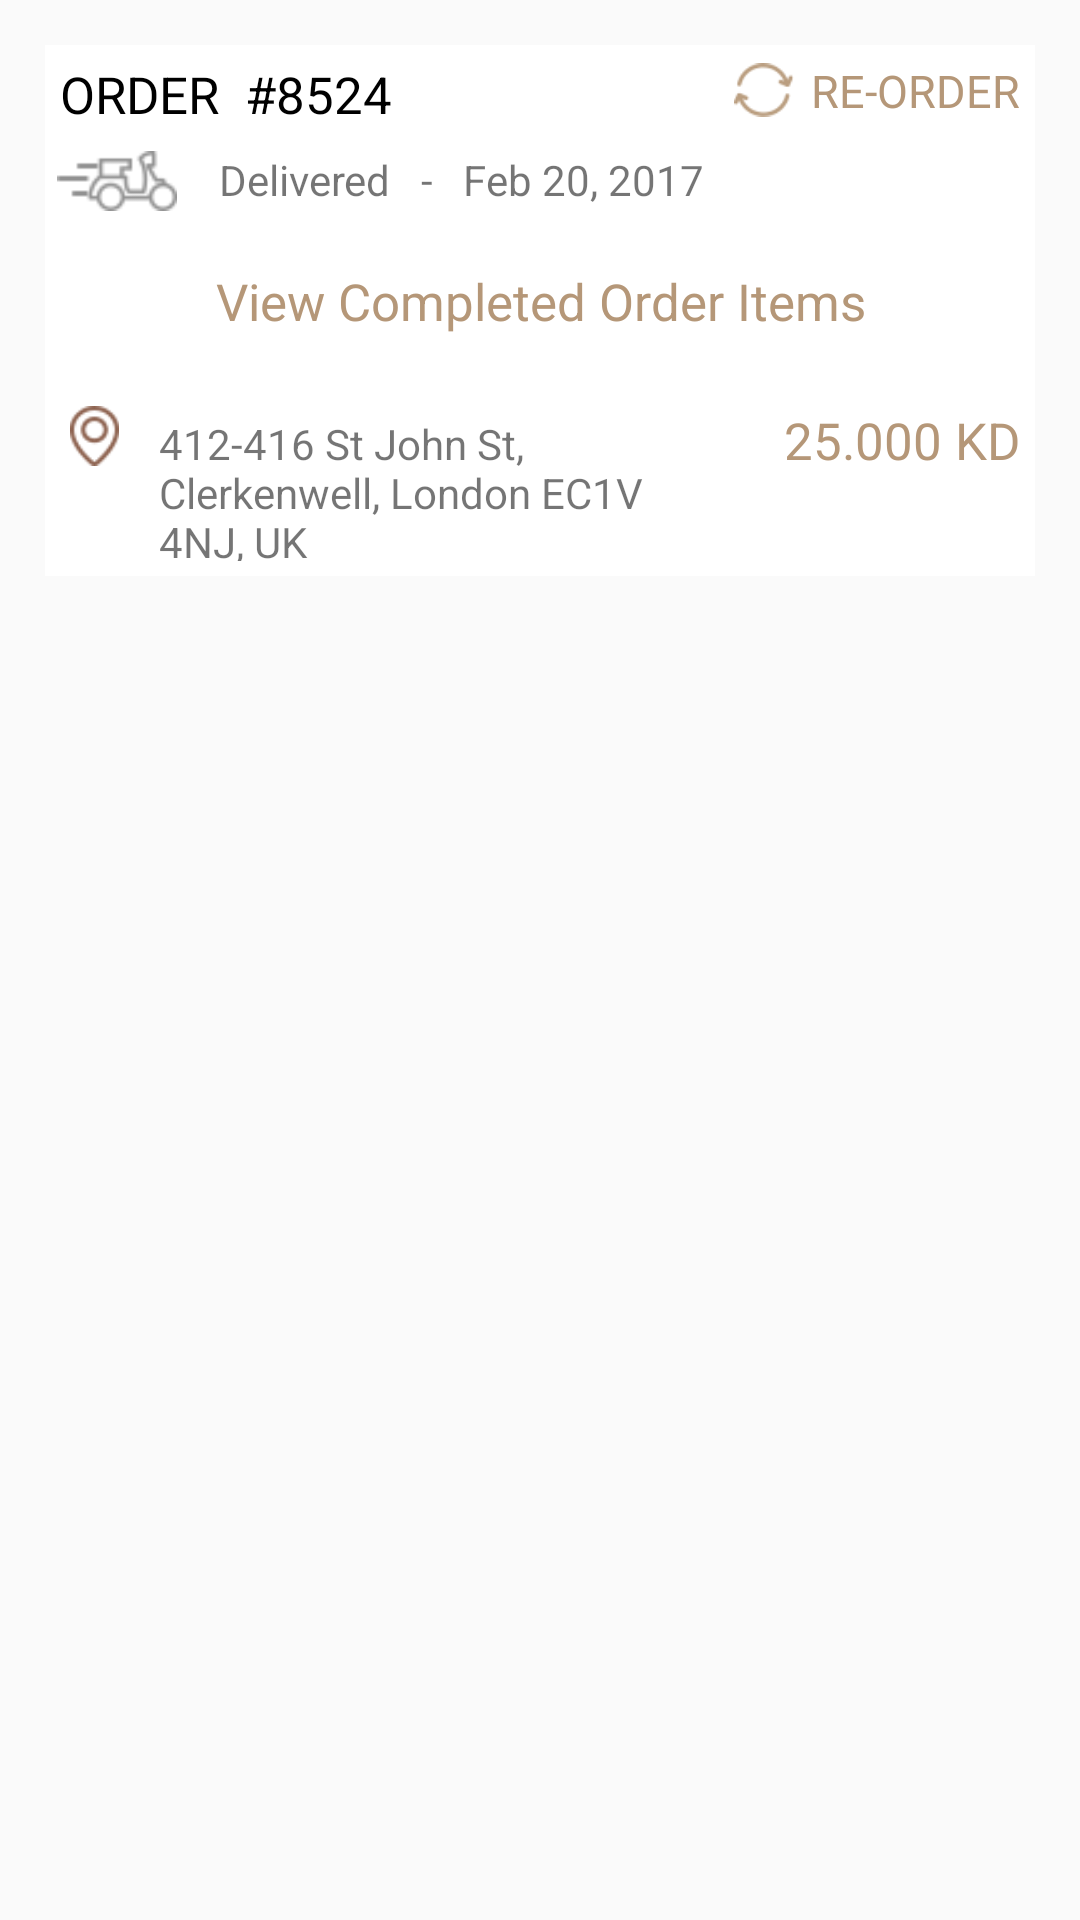

Screen size 1080px×1920px. Icon name, then its center in pixels as point (x, y):
locationicins: point (94, 436)
refresh: point (763, 90)
